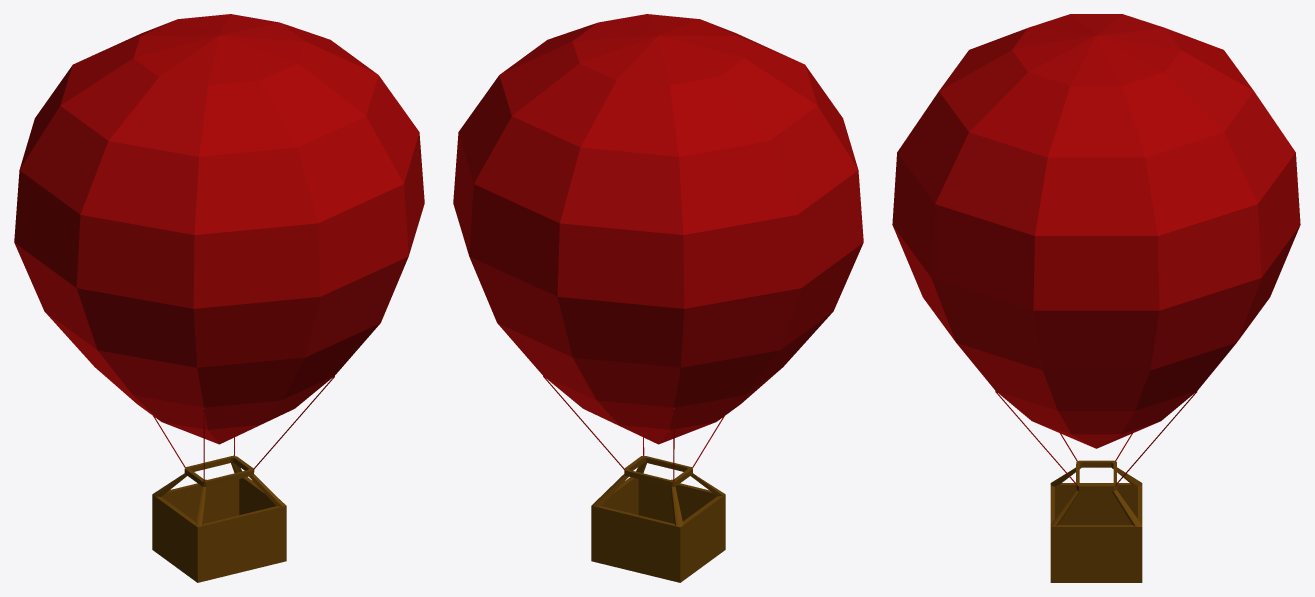
The model's file is Zeppelin.fbx.
The picture shows the model from 3 angles, left to right: view 1: azimuth 30°, elevation 25°; view 2: azimuth 150°, elevation 25°; view 3: azimuth 270°, elevation 25°; orthographic projection.
Visible parts, largest first — view 1: pSphere3; view 2: pSphere3; view 3: pSphere3.
Part boxes in pixels (x1,y1,x2,y2): pSphere3: (14,14,424,582); pSphere3: (453,14,863,582); pSphere3: (892,14,1300,582).
Size of the model in its own units: 6.56 by 9.36 by 6.59.
